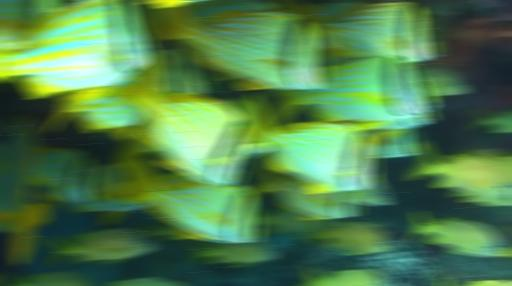Fish: (140, 7, 331, 90), (0, 0, 153, 103), (123, 59, 246, 185), (245, 94, 378, 193), (123, 158, 260, 242), (274, 56, 435, 126), (274, 0, 441, 62), (146, 173, 260, 242), (0, 115, 48, 263), (247, 159, 360, 219), (41, 163, 148, 224), (408, 143, 511, 206), (47, 75, 144, 139), (408, 212, 503, 256), (30, 146, 101, 202), (48, 228, 155, 265), (309, 221, 392, 254), (156, 48, 213, 94), (0, 0, 58, 39), (191, 241, 276, 267), (258, 208, 331, 238), (181, 0, 276, 23), (71, 197, 148, 225), (361, 129, 422, 157), (414, 65, 469, 96), (324, 183, 391, 206), (468, 149, 511, 182), (372, 111, 434, 129), (219, 98, 250, 129), (471, 110, 511, 133), (139, 222, 184, 240), (28, 272, 87, 285), (326, 272, 383, 285), (141, 0, 185, 8), (134, 279, 162, 285), (0, 224, 18, 232), (500, 247, 511, 256), (441, 279, 444, 285)
